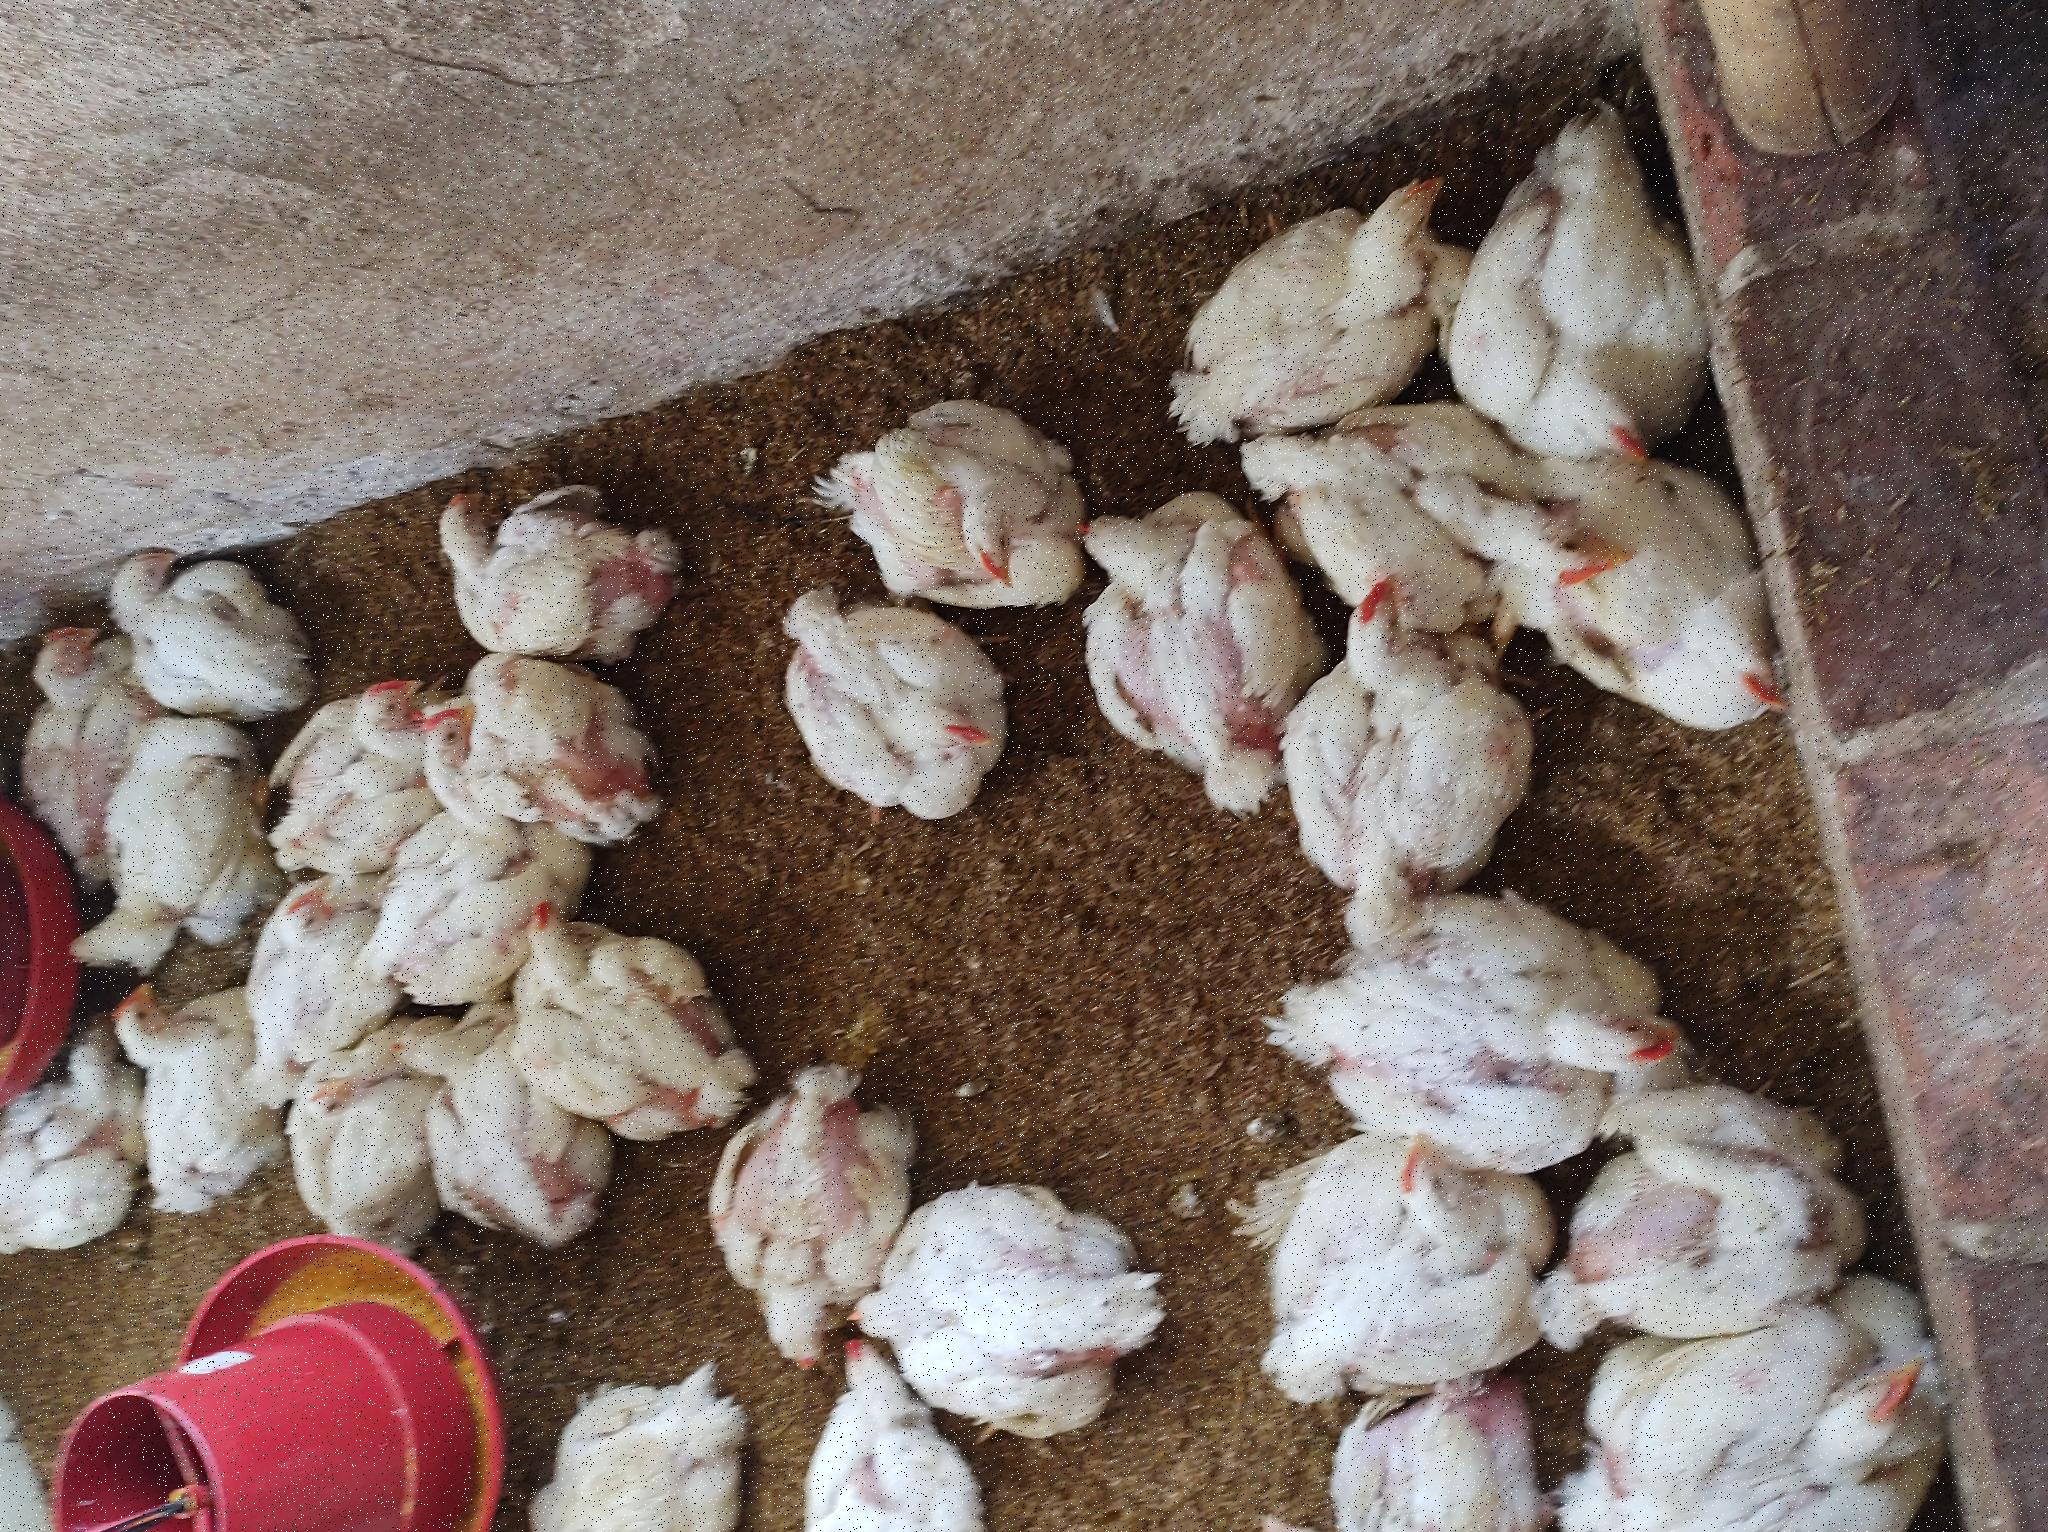Pollos: (92, 843, 373, 1168), (619, 1281, 956, 1529), (1128, 1143, 1364, 1460), (137, 1242, 385, 1532), (174, 700, 483, 908), (746, 1073, 1052, 1283), (396, 1294, 639, 1532), (923, 821, 1131, 1085), (677, 425, 888, 674), (864, 433, 1067, 682), (734, 769, 922, 1019), (2, 512, 183, 750), (410, 521, 632, 710), (2, 785, 201, 995), (566, 69, 803, 245), (322, 98, 574, 262), (317, 380, 529, 566), (824, 108, 1012, 317), (269, 3, 505, 135), (2, 1328, 151, 1532), (666, 269, 874, 406), (285, 274, 475, 417), (1054, 1464, 1445, 1532), (496, 233, 650, 373), (695, 13, 914, 106), (727, 415, 837, 510), (941, 1477, 1031, 1532)
